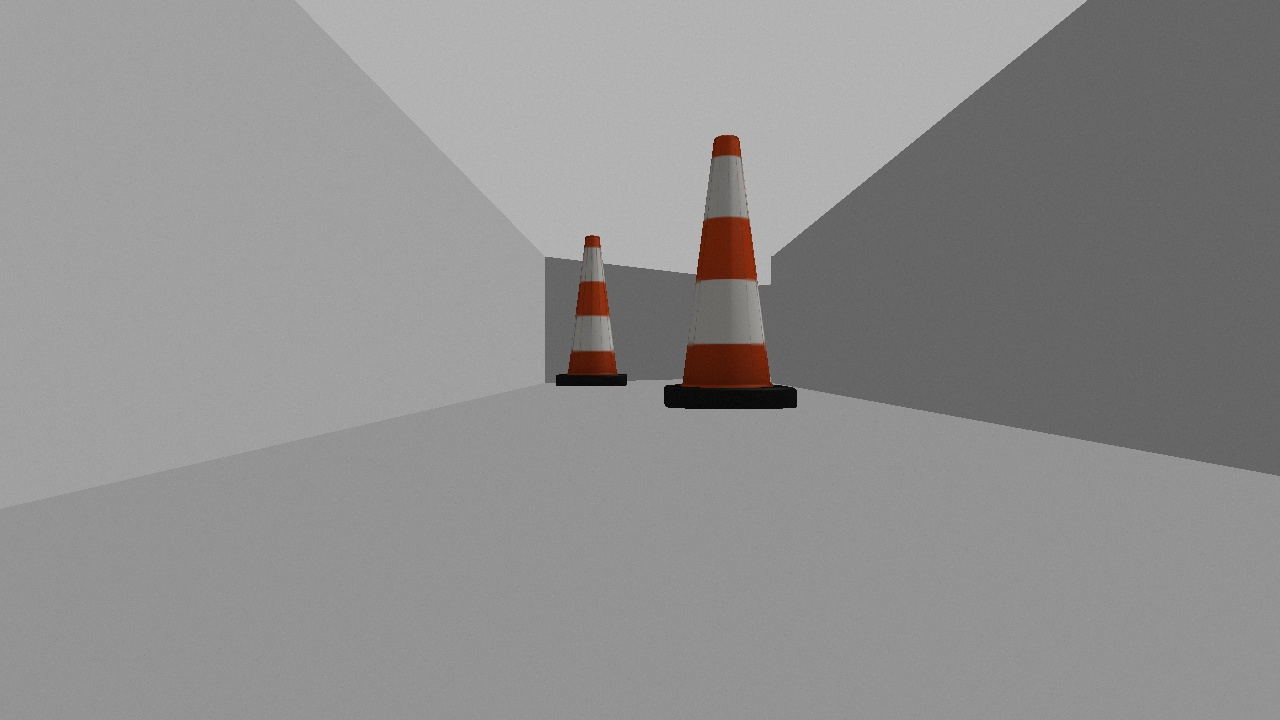barricade: (660, 130, 803, 422), (551, 230, 633, 393)
